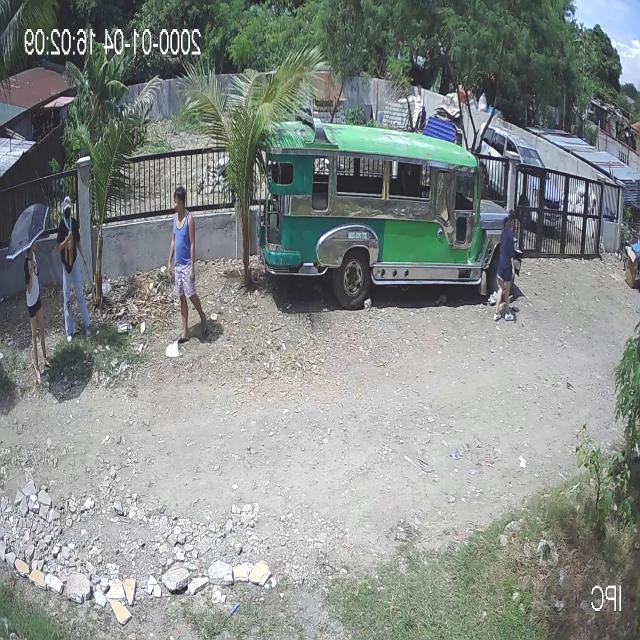standing: (58, 203, 89, 341), (24, 243, 52, 390)
walking: (167, 185, 212, 347), (493, 208, 517, 328)
